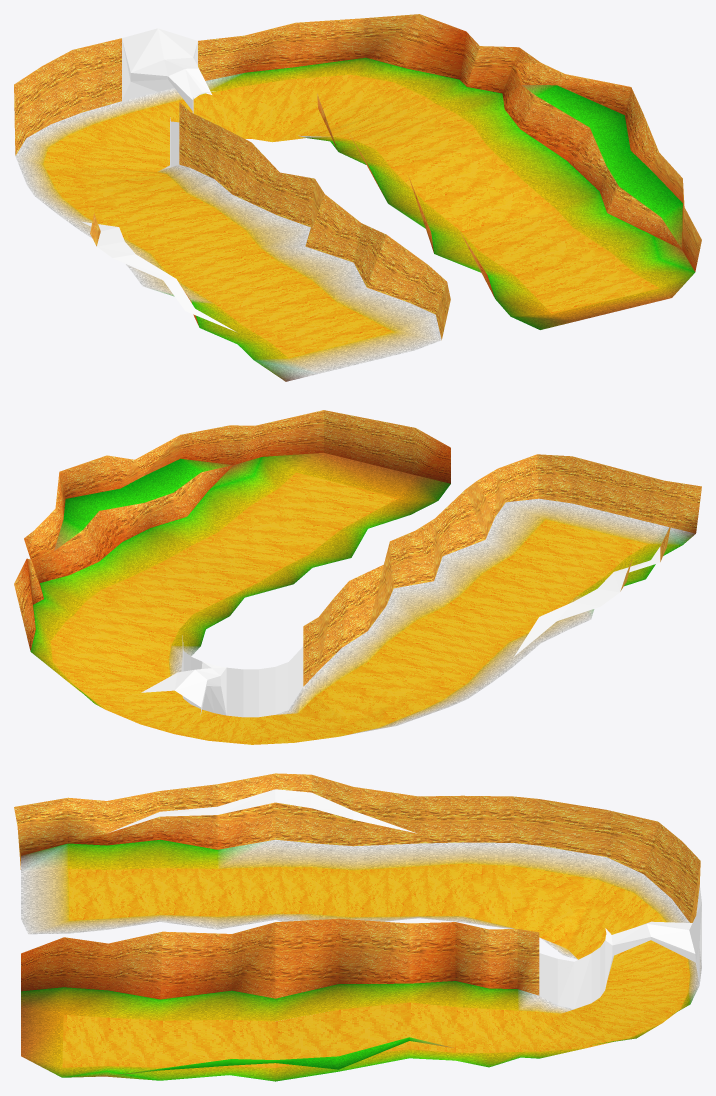
The model's file is HoreshoeGulch.glb.
The picture shows the model from 3 angles, top to bottom: view 1: azimuth 30°, elevation 25°; view 2: azimuth 150°, elevation 25°; view 3: azimuth 270°, elevation 25°; orthographic projection. The views are drawn at different scales.
Parts seen in each view (by area): view 1: HoreshoeGulch_0, HoreshoeGulch_1, HoreshoeGulch_2, HoreshoeGulch_3; view 2: HoreshoeGulch_0, HoreshoeGulch_2, HoreshoeGulch_1, HoreshoeGulch_3; view 3: HoreshoeGulch_2, HoreshoeGulch_0, HoreshoeGulch_1, HoreshoeGulch_3.
Boxes of the visible parts, x1,y1,x2,y2 form: HoreshoeGulch_0: [43, 74, 659, 357]; HoreshoeGulch_1: [15, 57, 695, 381]; HoreshoeGulch_2: [14, 14, 701, 339]; HoreshoeGulch_3: [81, 28, 235, 331]; HoreshoeGulch_0: [50, 472, 647, 744]; HoreshoeGulch_2: [14, 410, 701, 686]; HoreshoeGulch_1: [30, 453, 695, 735]; HoreshoeGulch_3: [141, 547, 660, 717]; HoreshoeGulch_2: [14, 773, 700, 999]; HoreshoeGulch_0: [62, 863, 689, 1067]; HoreshoeGulch_1: [21, 839, 701, 1081]; HoreshoeGulch_3: [109, 789, 701, 1009].
Bounding box in the file's own units: 522 × 73.25 × 554.
4 materials, 3 textured.
